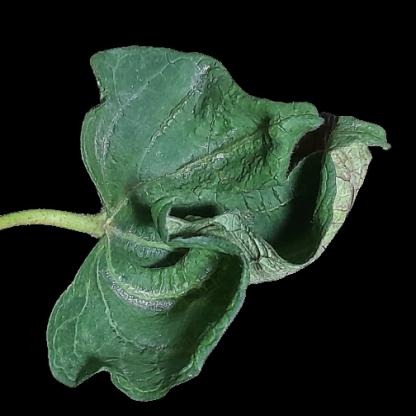curl_stage2: (104, 259, 204, 322), (324, 138, 377, 218), (246, 246, 288, 284)
healthy: (197, 111, 320, 247), (118, 124, 179, 175), (124, 64, 174, 122)
